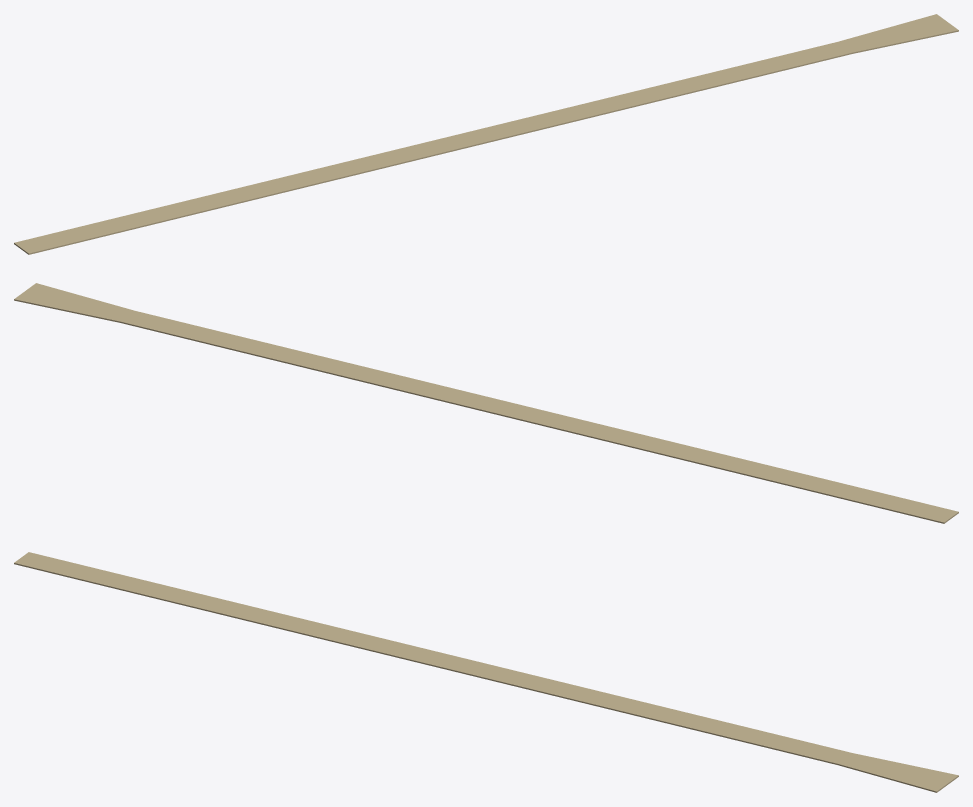
The model's file is access-C.glb.
3 renders of one model, top to bottom at view 1: azimuth 30°, elevation 25°; view 2: azimuth 150°, elevation 25°; view 3: azimuth 330°, elevation 25°, orthographic.
Visible parts, largest first — view 1: residential_R01_access_C_physical_design_only; view 2: residential_R01_access_C_physical_design_only; view 3: residential_R01_access_C_physical_design_only.
Part boxes in pixels (box(x1,y1,x2,y2)): residential_R01_access_C_physical_design_only: box(14, 14, 958, 254); residential_R01_access_C_physical_design_only: box(14, 283, 958, 523); residential_R01_access_C_physical_design_only: box(14, 552, 958, 792).
Bounding box in the file's own units: 145 × 0.2 × 6.
